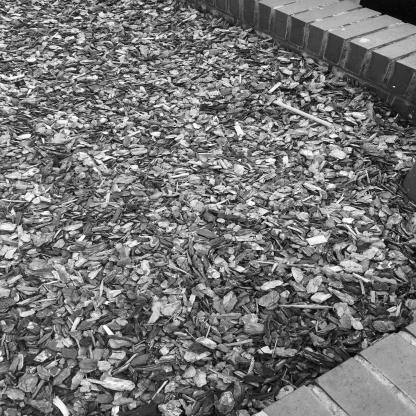plastic: (272, 98, 336, 130)
